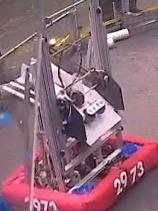red_number: (111, 158, 149, 200)
